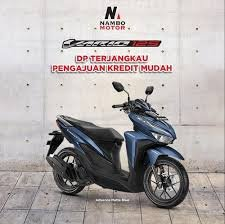motor: (41, 79, 194, 217)
